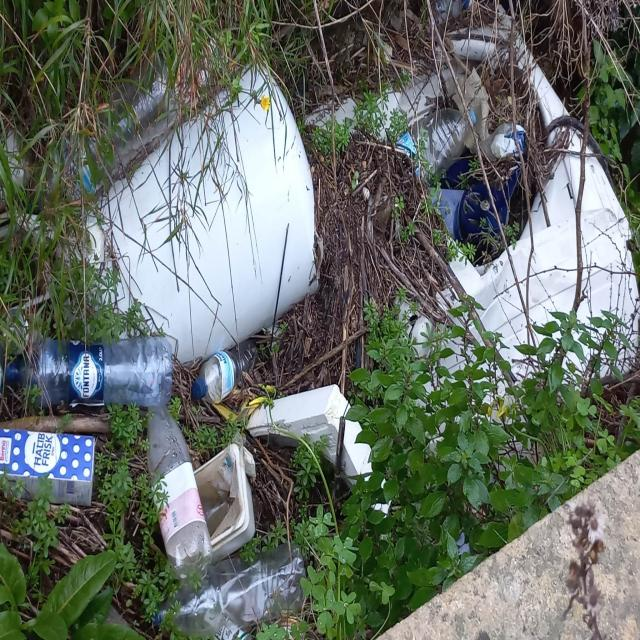Bottle: (41, 52, 184, 209), (148, 540, 306, 640), (144, 405, 213, 586), (4, 334, 175, 407), (392, 109, 480, 185), (190, 339, 259, 404), (182, 29, 232, 105), (423, 0, 487, 26), (209, 620, 255, 640)
Can: (4, 302, 42, 353)
Carton: (301, 60, 492, 154), (0, 428, 95, 507)
Other litter: (46, 57, 322, 367), (0, 128, 33, 200), (0, 342, 6, 391)
Other plastic: (430, 120, 528, 249)
Plastic container: (194, 441, 258, 564)
Styrofoam piece: (398, 6, 640, 456), (248, 385, 391, 516)
